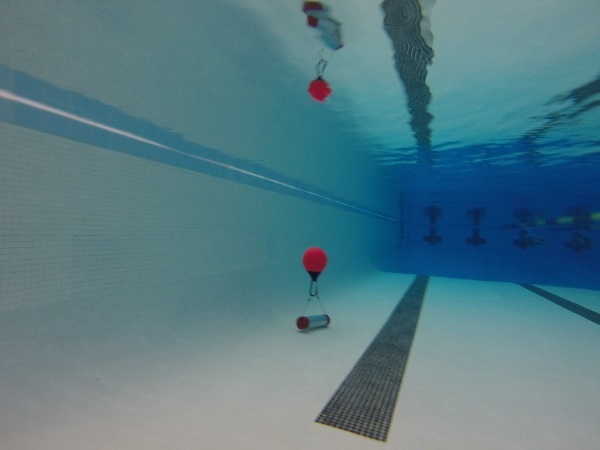buoy_red: (300, 246, 327, 280)
